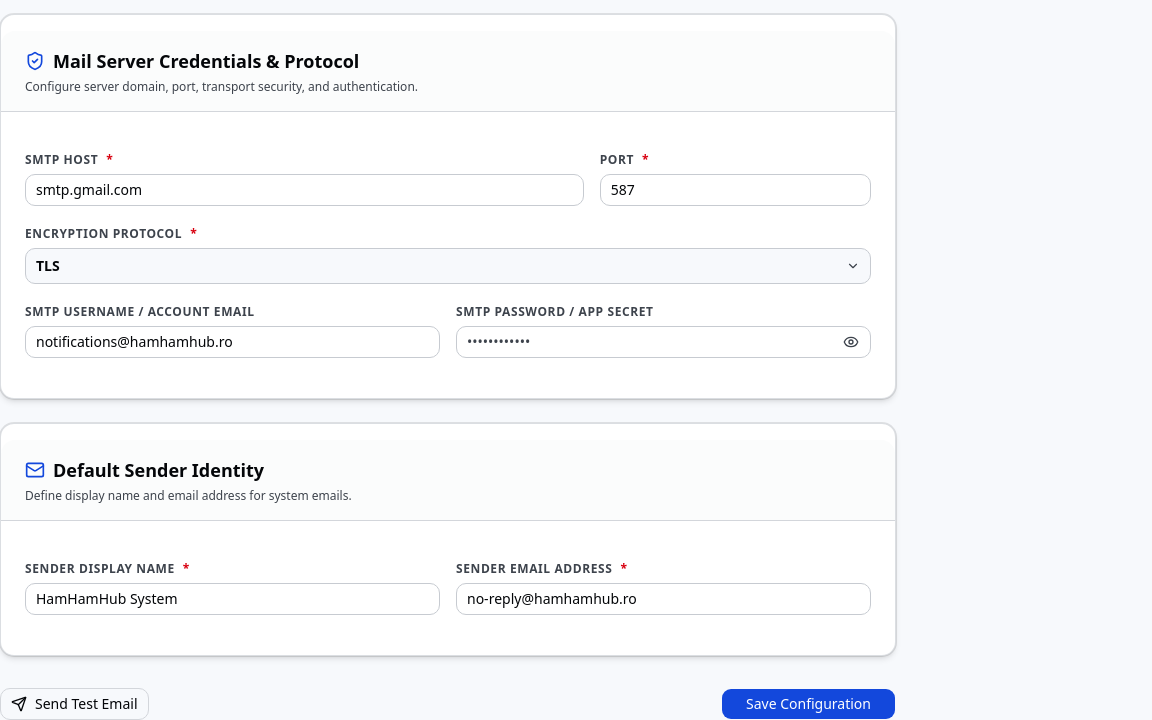
it: SmtpConfigForm Component › opens and closes the test email modal
(page scrolled)
Expected: the text "Send Test Connection Email" is not shown
Step 1. Click the button "Send Test Email" → point(74, 704), box 0,688 -> 148,719
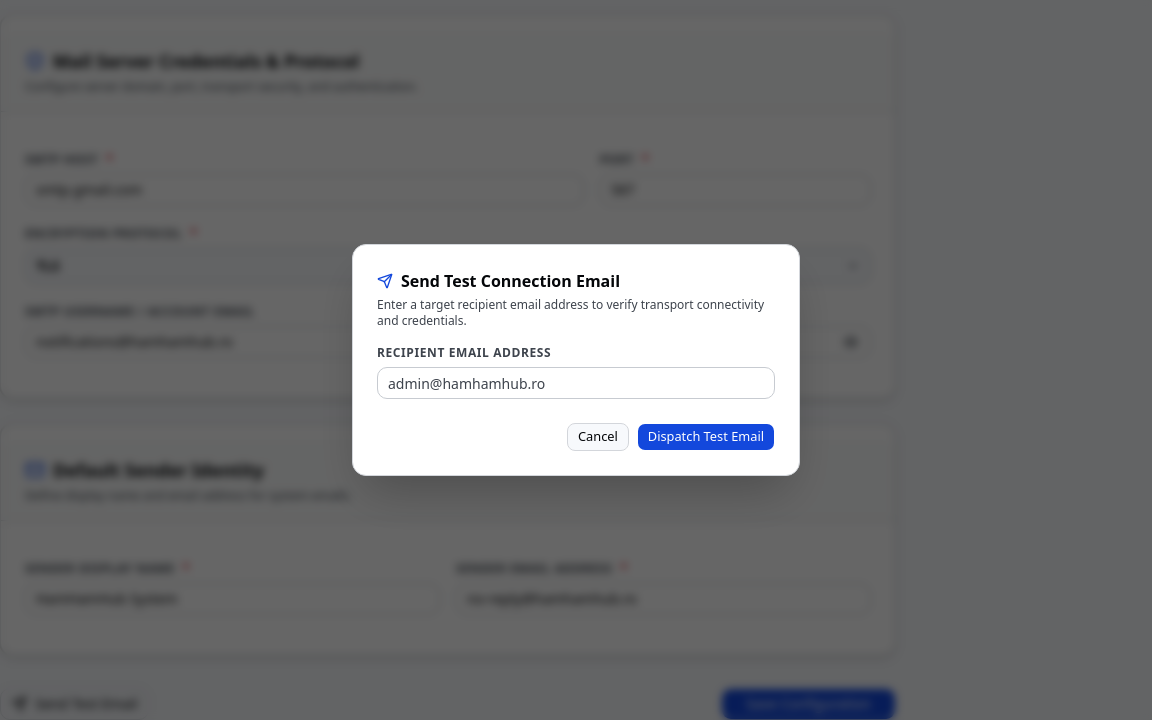
Result: the heading "Send Test Connection Email" is shown at 377,270 -> 620,292
Step 2. Click the button "Cancel" → point(598, 437), box 567,423 -> 629,451
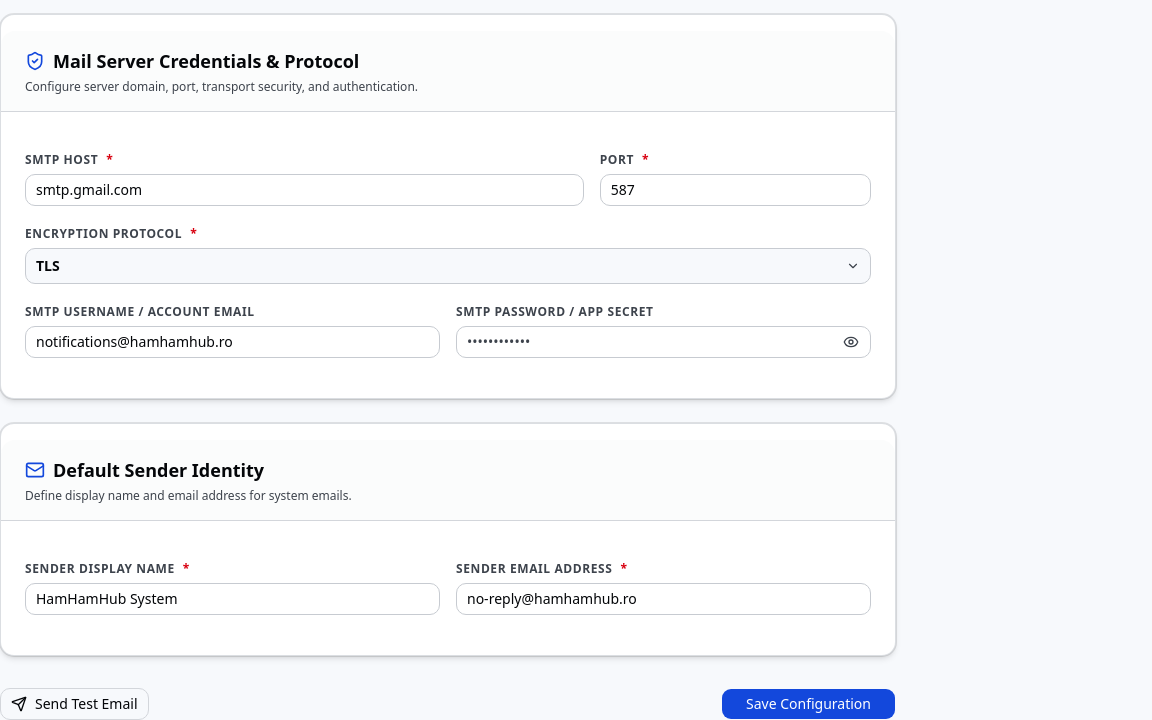
Result: the heading "Send Test Connection Email" is gone
